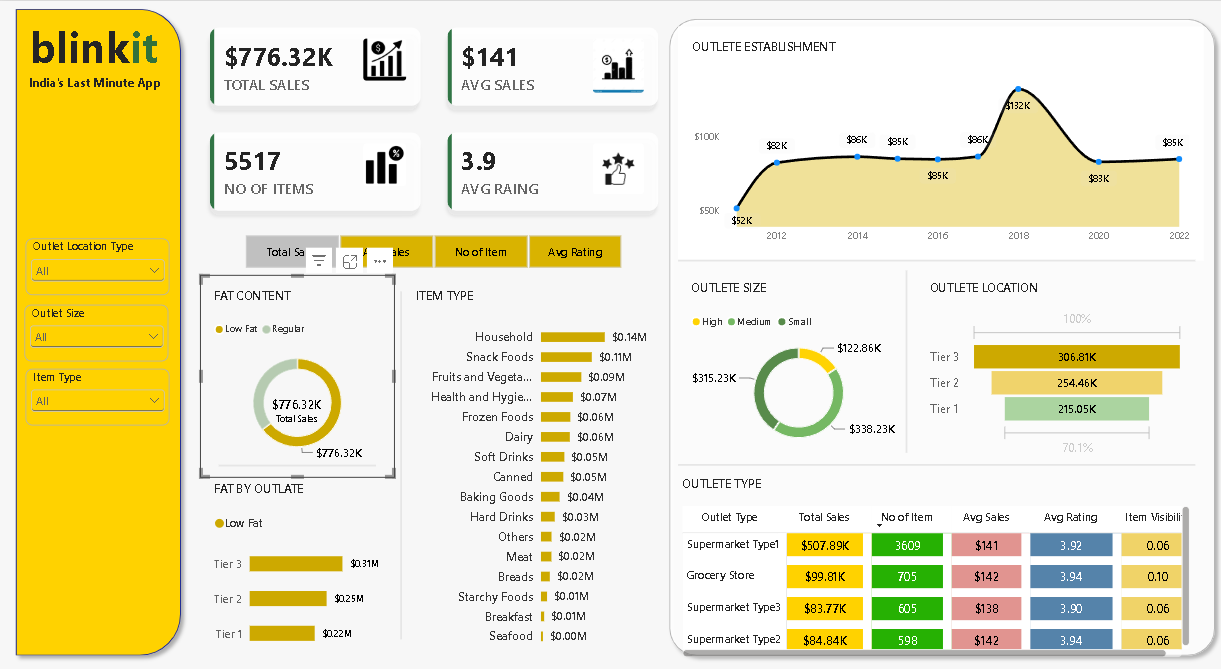

The page's visual inventory and layout, read from the dashboard file:
{"tool":"powerbi","page":{"name":"Page 1","canvas":[1920,1080],"ordinal":0},"visuals":[{"type":"shape","box":[10,0,205,750],"z":0},{"type":"textbox","box":[22,18.3,170.7,80.5],"z":1000},{"type":"textbox","box":[30.5,82.9,162.2,31.7],"z":2000},{"type":"cardVisual","fields":{"Data":["BlinkIT Grocery Data.Total Sales","BlinkIT Grocery Data.Avg Sales","BlinkIT Grocery Data.No of Item","BlinkIT Grocery Data.Avg Rating"]},"box":[227.9,18.6,530.2,231.4],"z":3000},{"type":"shape","box":[750,11.1,635.6,738.9],"z":4000},{"type":"donutChart","title":"FAT CONTENT","fields":{"Y":["BlinkIT Grocery Data.Total Sales"],"Category":["BlinkIT Grocery Data.Item Fat Content"]},"box":[228,309.8,220,230],"z":5000},{"type":"slicer","fields":{"Values":["Metrics.Metrics"]},"box":[258.1,264,465,40],"z":6000},{"type":"cardVisual","fields":{"Data":["BlinkIT Grocery Data.Total Sales"]},"box":[286.6,439,102.4,52.4],"z":7000},{"type":"clusteredBarChart","title":"FAT BY OUTLATE","fields":{"Y":["BlinkIT Grocery Data.Total Sales"],"Category":["BlinkIT Grocery Data.Outlet Location Type"],"Series":["BlinkIT Grocery Data.Item Fat Content"]},"box":[228,529.3,220,230],"z":8000},{"type":"shape","box":[248.8,511.2,178,29.3],"z":9000},{"type":"shape","box":[439,329.3,32.9,393.9],"z":10000},{"type":"barChart","title":"ITEM TYPE","fields":{"Y":["BlinkIT Grocery Data.Total Sales"],"Category":["BlinkIT Grocery Data.Item Type"]},"box":[456.1,309.8,293.9,440.2],"z":11000},{"type":"lineChart","title":"OUTLETE ESTABLISHMENT","fields":{"Y":["BlinkIT Grocery Data.Total Sales"],"Category":["BlinkIT Grocery Data.Outlet Establishment Year"]},"box":[768.9,28.9,595,265],"z":11001},{"type":"shape","box":[768.9,265.6,585.6,57.8],"z":11002},{"type":"donutChart","title":"OUTLETE SIZE","fields":{"Series":["BlinkIT Grocery Data.Outlet Size"],"Y":["BlinkIT Grocery Data.Total Sales"]},"box":[767.8,301.1,275,225],"z":11003},{"type":"shape","box":[1011.1,304.4,32.2,206.7],"z":11004},{"type":"funnel","title":"OUTLETE LOCATION","fields":{"Y":["Sum(BlinkIT Grocery Data.Sales)"],"Category":["BlinkIT Grocery Data.Outlet Location Type"]},"box":[1037.8,301.1,320,230],"z":11005},{"type":"shape","box":[768.9,496.7,585.6,57.8],"z":11006},{"type":"pivotTable","title":"OUTLETE TYPE","fields":{"Rows":["BlinkIT Grocery Data.Outlet Type"],"Values":["BlinkIT Grocery Data.Total Sales","BlinkIT Grocery Data.No of Item","BlinkIT Grocery Data.Avg Sales","BlinkIT Grocery Data.Avg Rating","Avg(BlinkIT Grocery Data.Item Visibility)"]},"box":[757.8,523.3,606.7,235.6],"z":11007},{"type":"slicer","fields":{"Values":["BlinkIT Grocery Data.Outlet Location Type"]},"box":[30,268.9,163.3,64.4],"z":11008},{"type":"slicer","fields":{"Values":["BlinkIT Grocery Data.Outlet Size"]},"box":[28.9,343.3,163.3,64.4],"z":11009},{"type":"slicer","fields":{"Values":["BlinkIT Grocery Data.Item Type"]},"box":[30,416.7,163.3,64.4],"z":11010}]}

Visuals, with their boxes in screenshot pixels (x1, y1, x2, y2), scaled from the page's 1920x1080 canvas onto the 1221x669 screenshot:
shape: [x1=6, y1=0, x2=137, y2=465]
textbox: [x1=14, y1=11, x2=123, y2=61]
textbox: [x1=19, y1=51, x2=123, y2=71]
cardVisual - BlinkIT Grocery Data.Total Sales x BlinkIT Grocery Data.Avg Sales: [x1=145, y1=12, x2=482, y2=155]
shape: [x1=477, y1=7, x2=881, y2=465]
"FAT CONTENT" donutChart: [x1=145, y1=192, x2=285, y2=334]
slicer - Metrics.Metrics: [x1=164, y1=164, x2=460, y2=188]
cardVisual - BlinkIT Grocery Data.Total Sales: [x1=182, y1=272, x2=247, y2=304]
"FAT BY OUTLATE" clusteredBarChart: [x1=145, y1=328, x2=285, y2=470]
shape: [x1=158, y1=317, x2=271, y2=335]
shape: [x1=279, y1=204, x2=300, y2=448]
"ITEM TYPE" barChart: [x1=290, y1=192, x2=477, y2=465]
"OUTLETE ESTABLISHMENT" lineChart: [x1=489, y1=18, x2=867, y2=182]
shape: [x1=489, y1=165, x2=861, y2=200]
"OUTLETE SIZE" donutChart: [x1=488, y1=187, x2=663, y2=326]
shape: [x1=643, y1=189, x2=663, y2=317]
"OUTLETE LOCATION" funnel: [x1=660, y1=187, x2=863, y2=329]
shape: [x1=489, y1=308, x2=861, y2=343]
"OUTLETE TYPE" pivotTable: [x1=482, y1=324, x2=868, y2=470]
slicer - BlinkIT Grocery Data.Outlet Location Type: [x1=19, y1=167, x2=123, y2=206]
slicer - BlinkIT Grocery Data.Outlet Size: [x1=18, y1=213, x2=122, y2=253]
slicer - BlinkIT Grocery Data.Item Type: [x1=19, y1=258, x2=123, y2=298]
